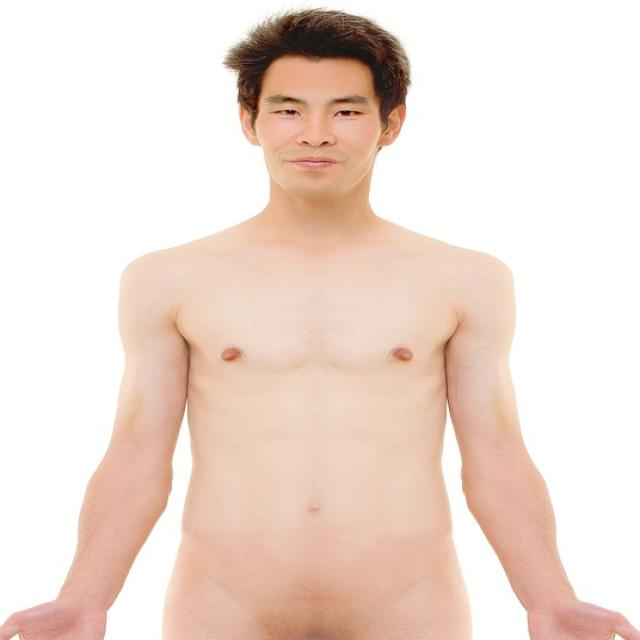mobile_phonerotation: (2, 7, 636, 638)
